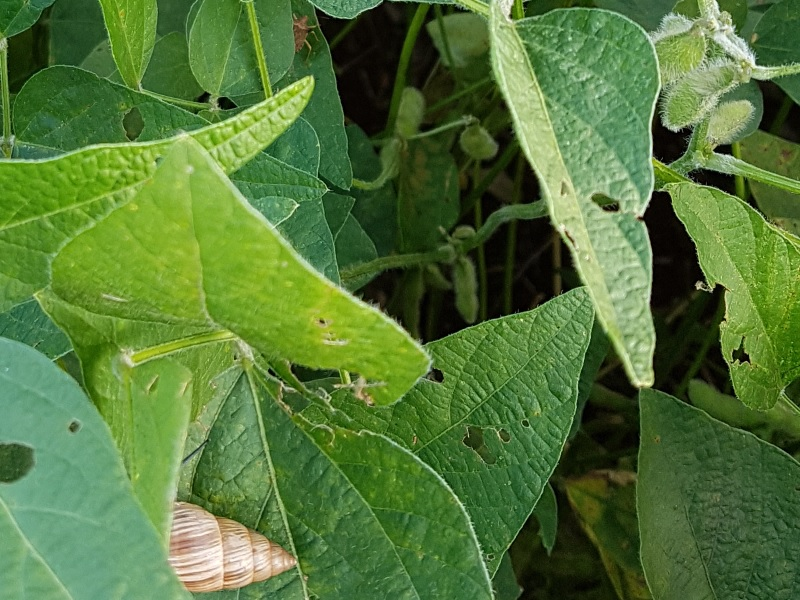Euschistus_heros_adulto: (274, 4, 339, 72)
Gastropoda: (141, 489, 309, 598)
